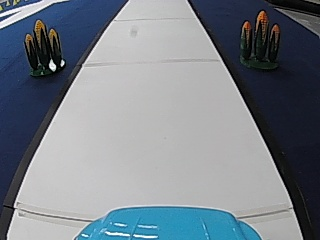corn: (236, 8, 282, 70), (23, 16, 66, 76)
